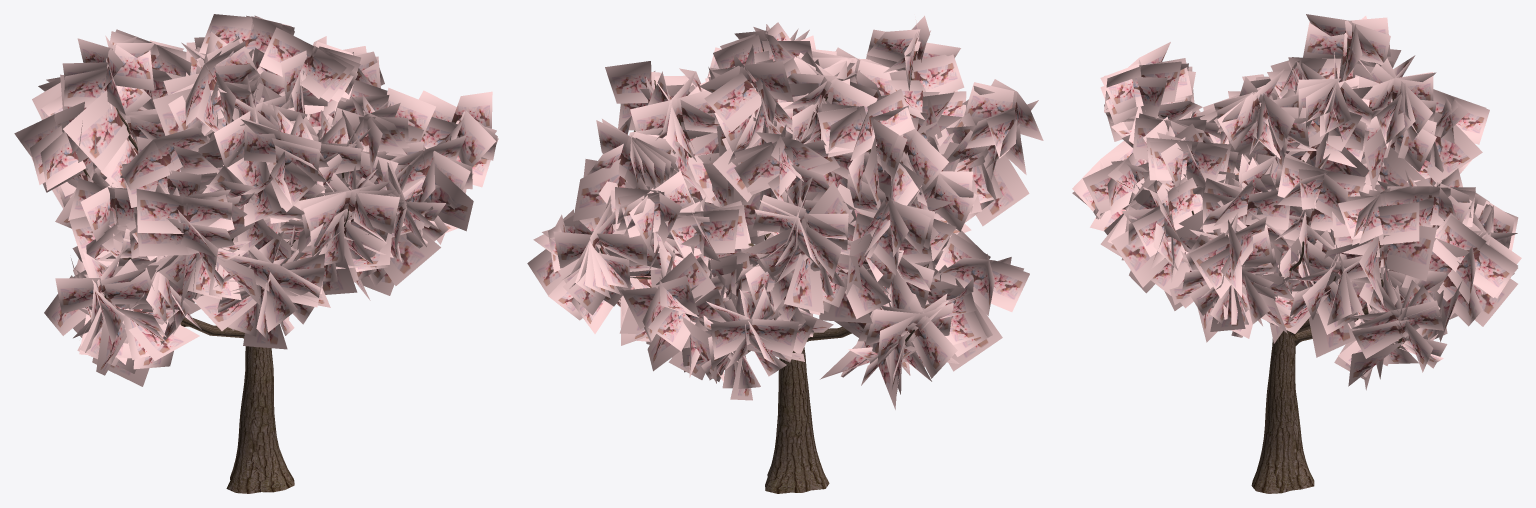
Rendered from Sakura_Tree_01_-_Low_Poly_Model.glb.
3 renders of one model, left to right at view 1: azimuth 30°, elevation 25°; view 2: azimuth 150°, elevation 25°; view 3: azimuth 270°, elevation 25°, orthographic. The views are drawn at different scales.
Parts seen in each view (by area): view 1: Sakura_Sakura_Mat_0, Sakura_Bark001_2K_JPG_Mat_0; view 2: Sakura_Sakura_Mat_0, Sakura_Bark001_2K_JPG_Mat_0; view 3: Sakura_Sakura_Mat_0, Sakura_Bark001_2K_JPG_Mat_0.
Part boxes in pixels (<box>): Sakura_Sakura_Mat_0: <box>14,14,498,386</box>; Sakura_Bark001_2K_JPG_Mat_0: <box>83,86,458,493</box>; Sakura_Sakura_Mat_0: <box>527,15,1043,409</box>; Sakura_Bark001_2K_JPG_Mat_0: <box>599,51,928,493</box>; Sakura_Sakura_Mat_0: <box>1072,14,1521,390</box>; Sakura_Bark001_2K_JPG_Mat_0: <box>1191,41,1402,493</box>.
Bounding box in the file's own units: 0.4036 × 0.4172 × 0.4016.
2 materials, 2 textured.
